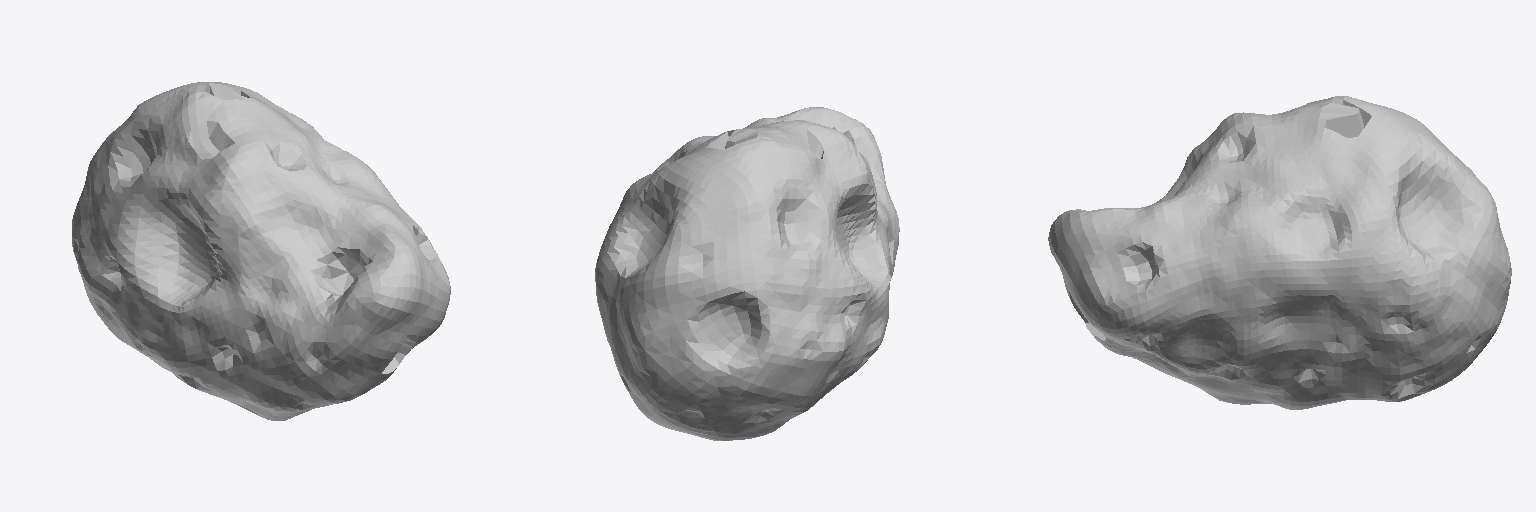
File: asteroid.obj
3 renders of one model, left to right at view 1: azimuth 30°, elevation 25°; view 2: azimuth 150°, elevation 25°; view 3: azimuth 270°, elevation 25°, orthographic.
Parts seen in each view (by area): view 1: asteroid; view 2: asteroid; view 3: asteroid.
Part boxes in pixels (x1,y1,x2,y2): asteroid: (72, 82, 450, 420); asteroid: (595, 107, 899, 440); asteroid: (1048, 96, 1511, 409).
Bounding box in the file's own units: 1.09 × 1.25 × 1.8.